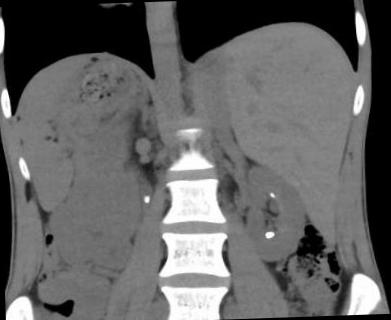Tas_Var: (262, 228, 278, 240), (140, 192, 154, 204), (268, 192, 274, 195), (270, 196, 276, 198)
